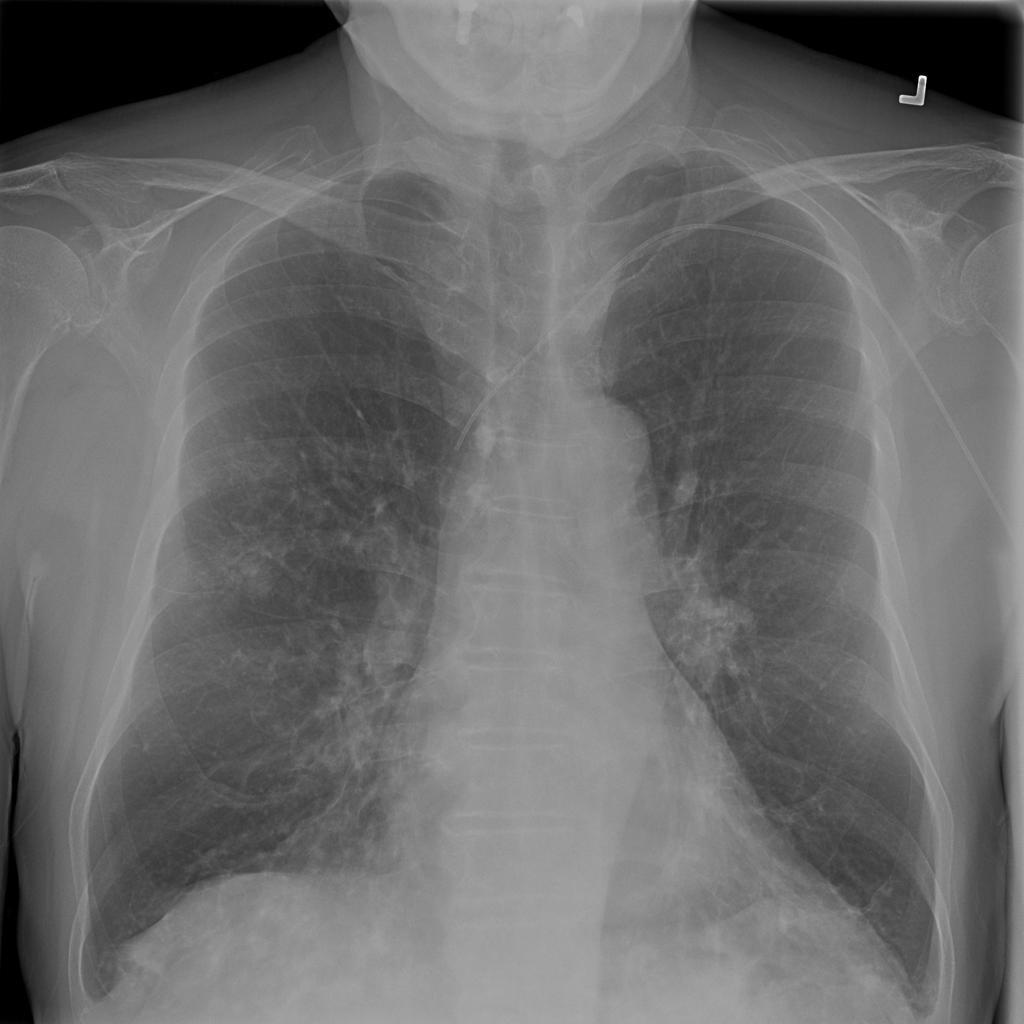nodule: (106, 921, 180, 994), (464, 407, 507, 464)
